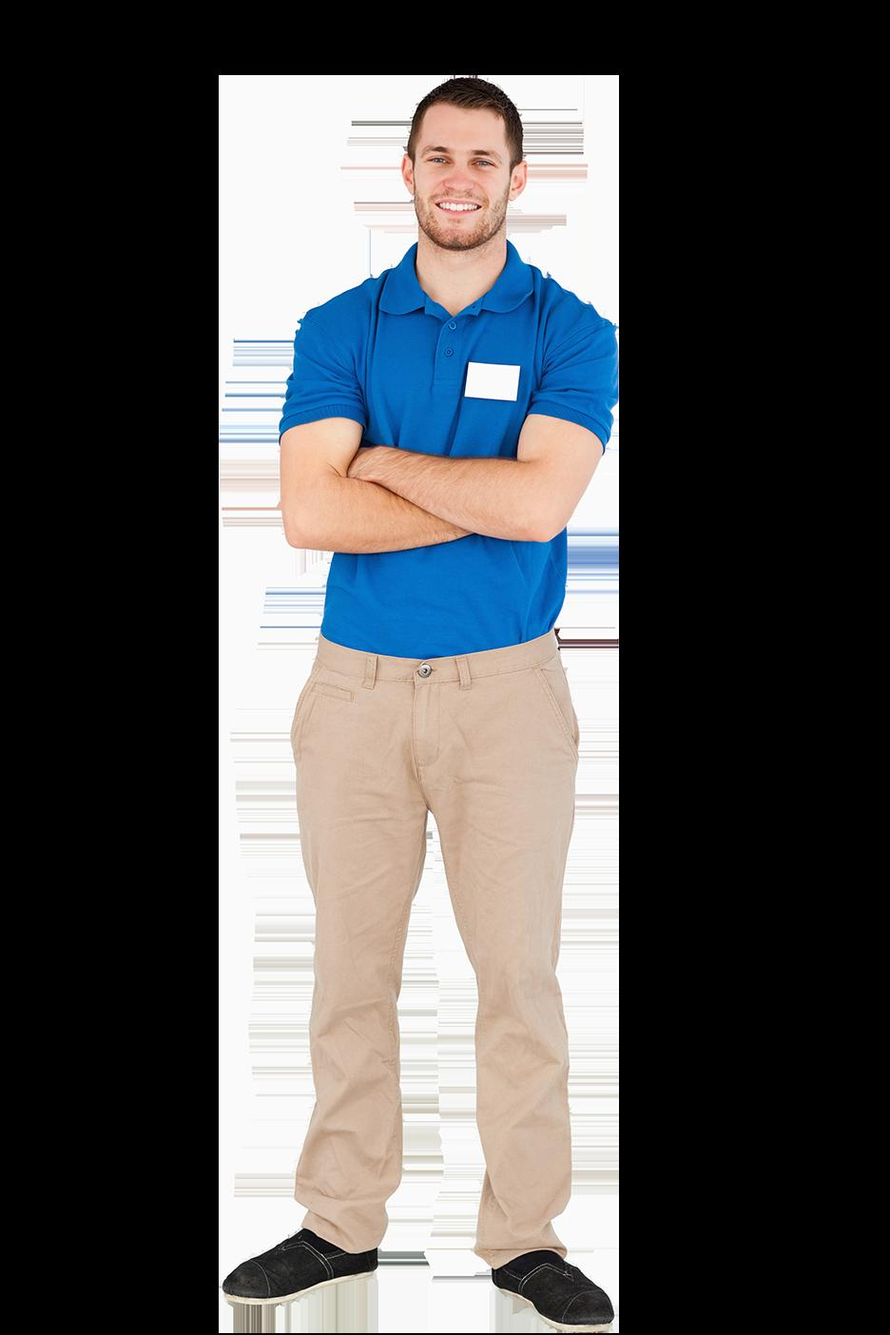No_Goggles: (415, 138, 511, 181)
No_Helmet: (418, 71, 521, 128)
